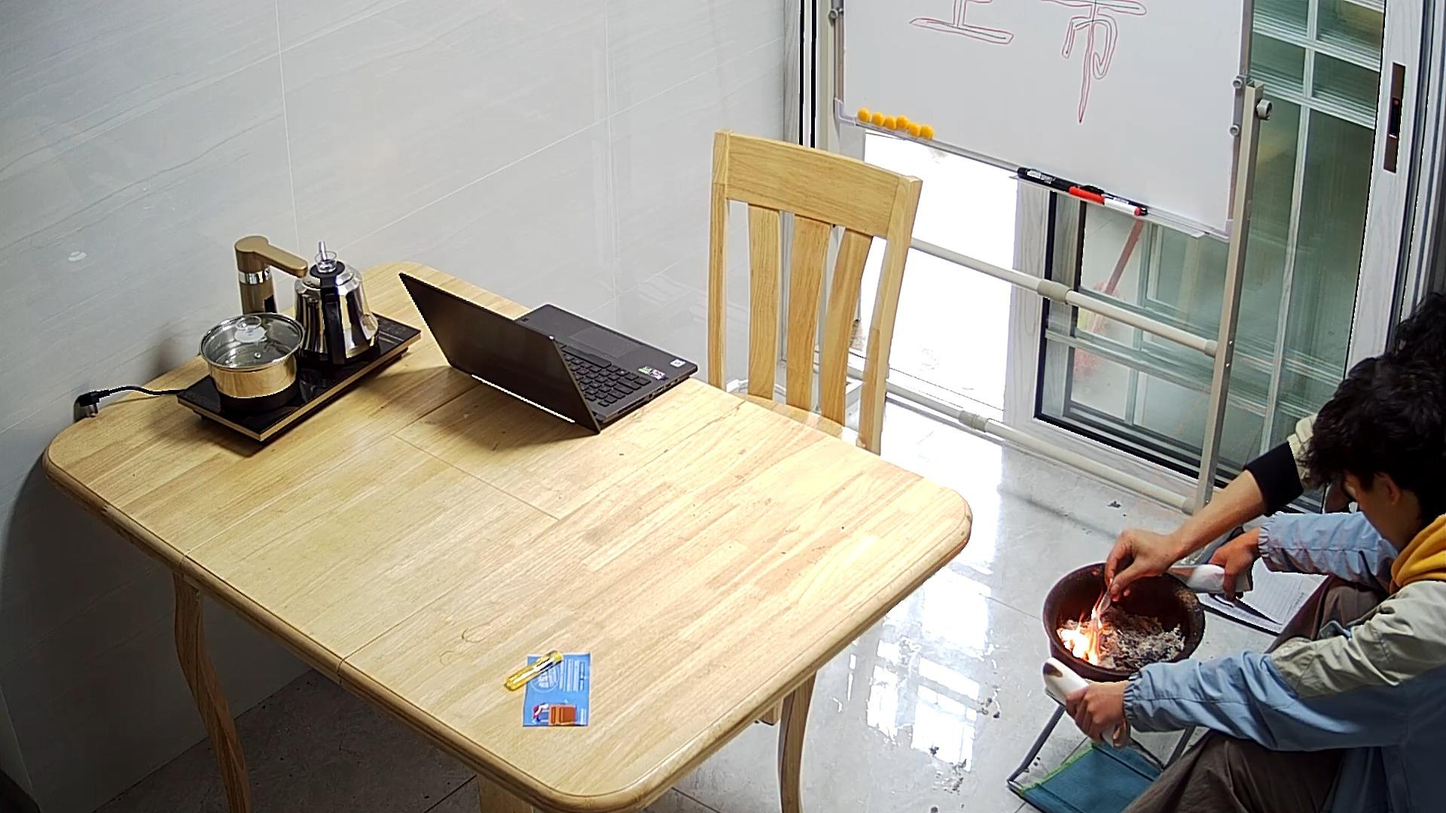fire: (1059, 617, 1098, 660)
